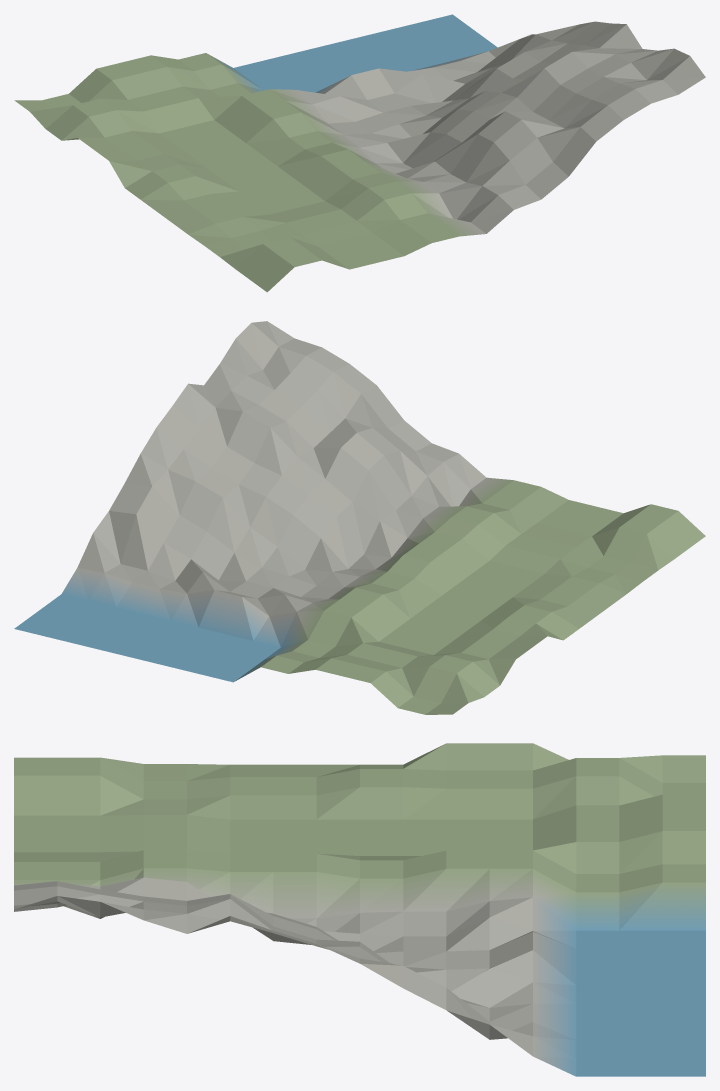
3 renders of one model, top to bottom at view 1: azimuth 30°, elevation 25°; view 2: azimuth 150°, elevation 25°; view 3: azimuth 270°, elevation 25°, orthographic. The views are drawn at different scales.
Size of the model in its own units: 32 by 9.23 by 32.
